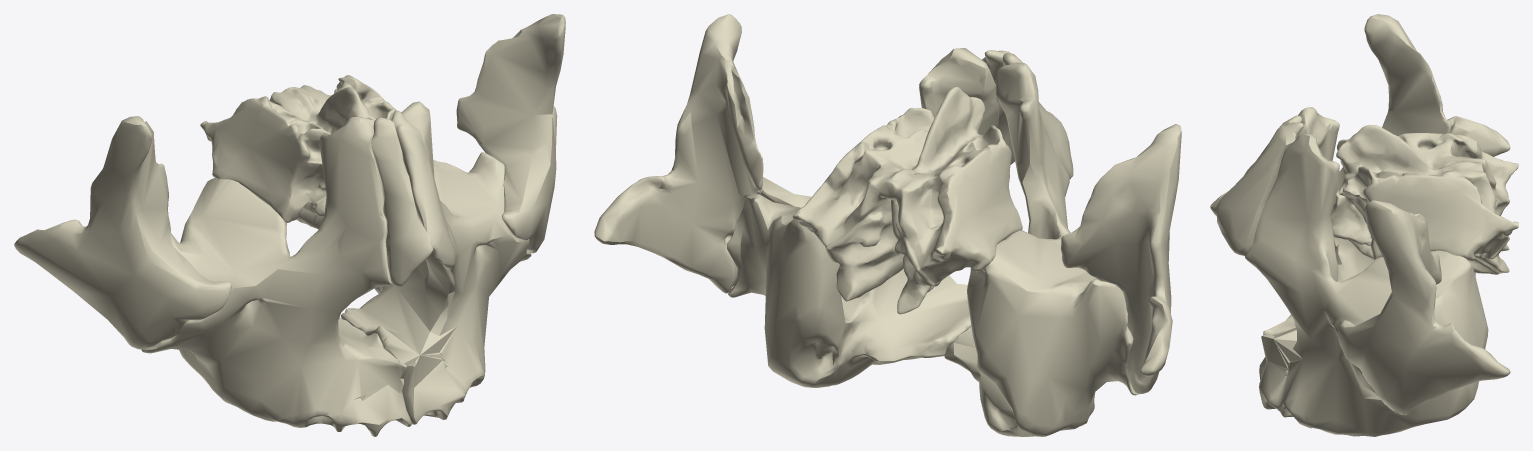
File: face-bones.glb
3 views of the same model, side by side, from view 1: azimuth 30°, elevation 25°; view 2: azimuth 150°, elevation 25°; view 3: azimuth 270°, elevation 25° (orthographic). The views are drawn at different scales.
Visible parts, largest first — view 1: grp1; view 2: grp1; view 3: grp1.
Boxes of the visible parts, left/top/right/bottom form: grp1: left=14, top=14, right=565, bottom=436; grp1: left=594, top=14, right=1181, bottom=436; grp1: left=1210, top=14, right=1518, bottom=436.
Size of the model in its own units: 0.1278 by 0.0727 by 0.071.
